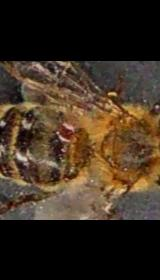varroa_mite: (54, 114, 78, 148)
